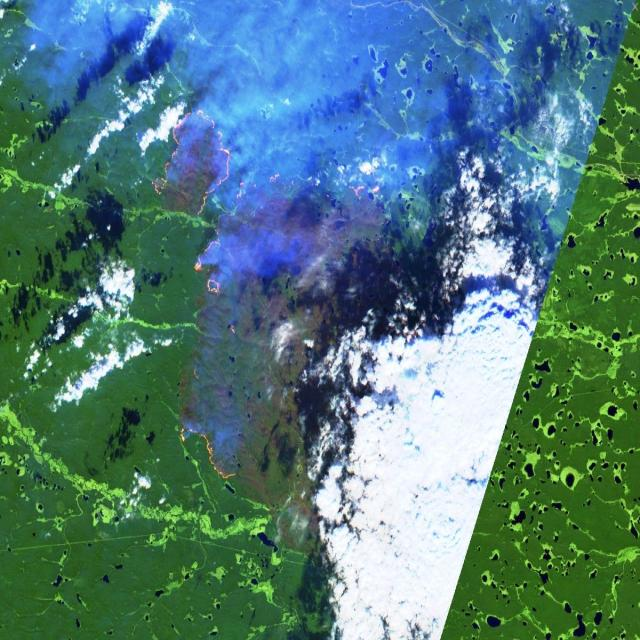fire: (145, 102, 235, 222), (166, 417, 242, 489), (190, 236, 226, 306), (337, 164, 389, 204)
